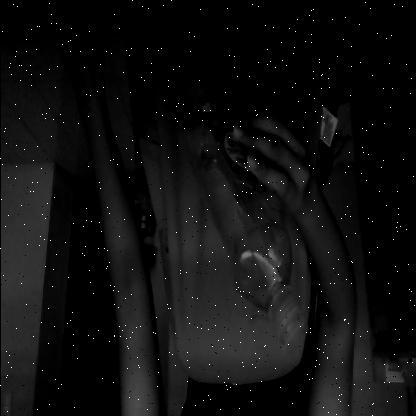Plastic Bottle: (176, 78, 305, 349)
